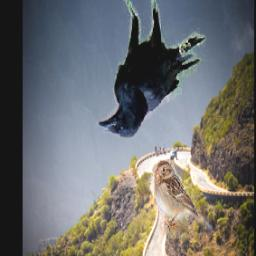Crow: (96, 0, 206, 140)
Sparrow: (155, 160, 219, 239)
